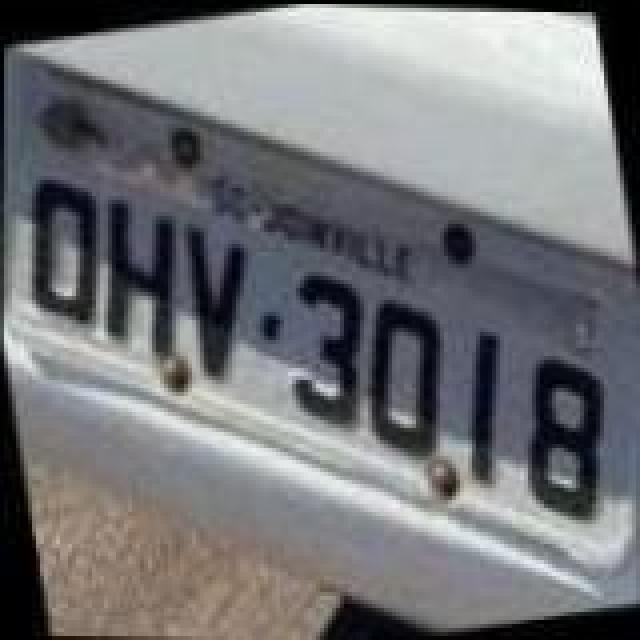1: (442, 322, 526, 486)
3: (272, 262, 388, 434)
8: (506, 340, 630, 528)
H: (78, 186, 198, 362)
O: (342, 284, 462, 464), (8, 170, 120, 334)
V: (174, 212, 270, 380)
